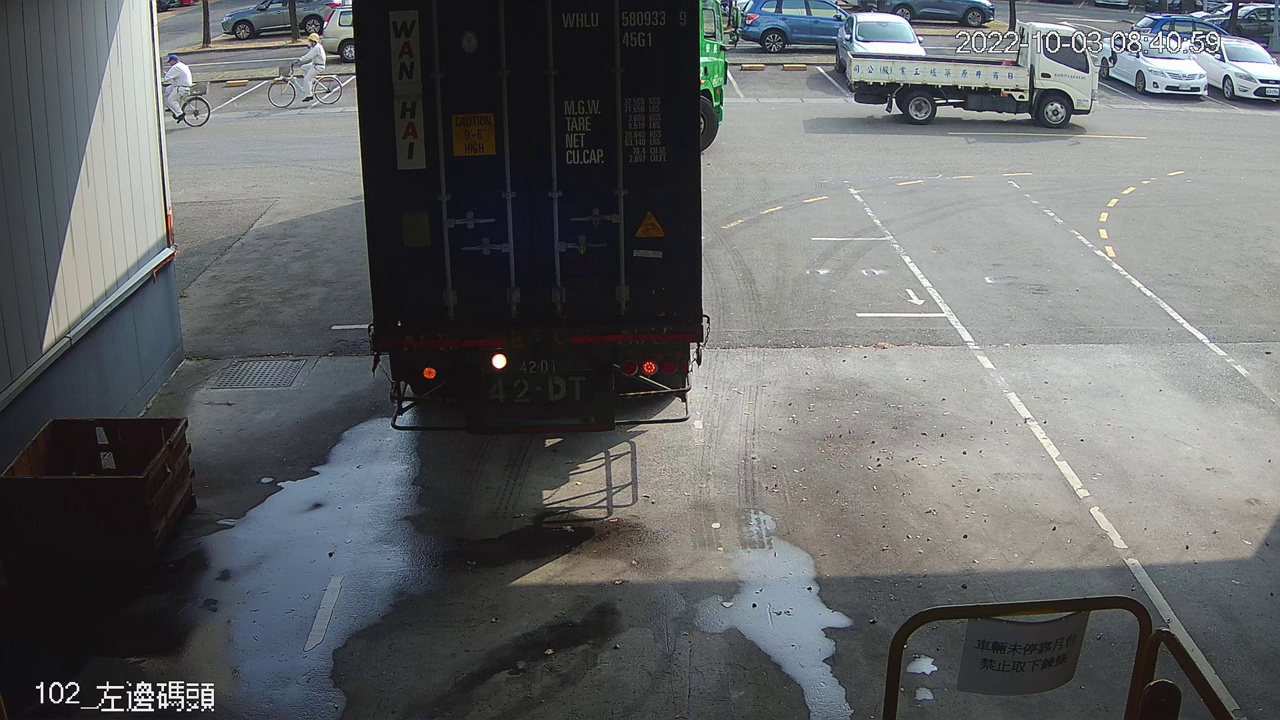container: (556, 5, 692, 52)
